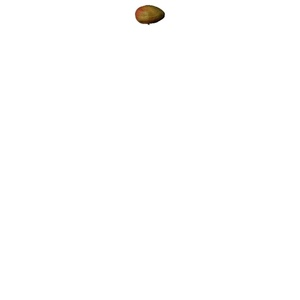mamão: (133, 3, 172, 29)
